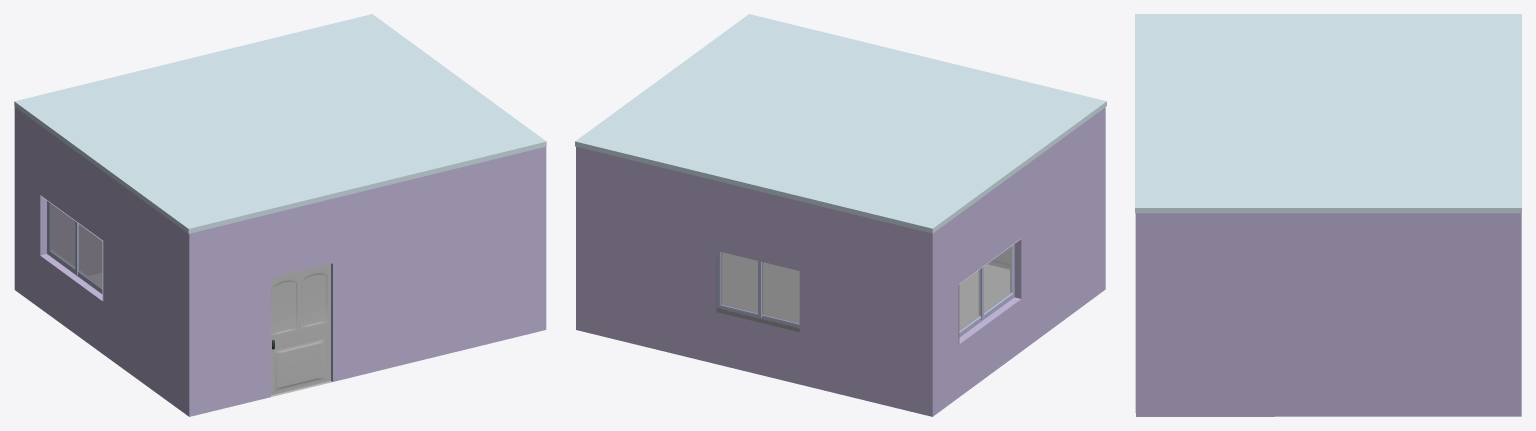
File: Kitchen Room.fbx
3 views of the same model, side by side, from view 1: azimuth 30°, elevation 25°; view 2: azimuth 150°, elevation 25°; view 3: azimuth 270°, elevation 25° (orthographic). The views are drawn at different scales.
Parts seen in each view (by area): view 1: Kitchen_Room, Kichen_Ciling, Kitchen_Door, kitchen_Window1; view 2: Kitchen_Room, Kichen_Ciling, kitchen_Window, kitchen_Window1; view 3: Kitchen_Room, Kichen_Ciling.
Boxes of the visible parts, x1,y1,x2,y2 form: Kitchen_Room: (14, 107, 546, 416); Kichen_Ciling: (14, 14, 546, 233); Kitchen_Door: (271, 264, 330, 395); kitchen_Window1: (47, 201, 102, 293); Kitchen_Room: (576, 107, 1105, 416); Kichen_Ciling: (575, 14, 1106, 233); kitchen_Window: (717, 251, 799, 327); kitchen_Window1: (959, 244, 1014, 337); Kitchen_Room: (1135, 213, 1521, 416); Kichen_Ciling: (1135, 14, 1521, 213).
Bounding box in the file's own units: 1468 × 741 × 1237.
